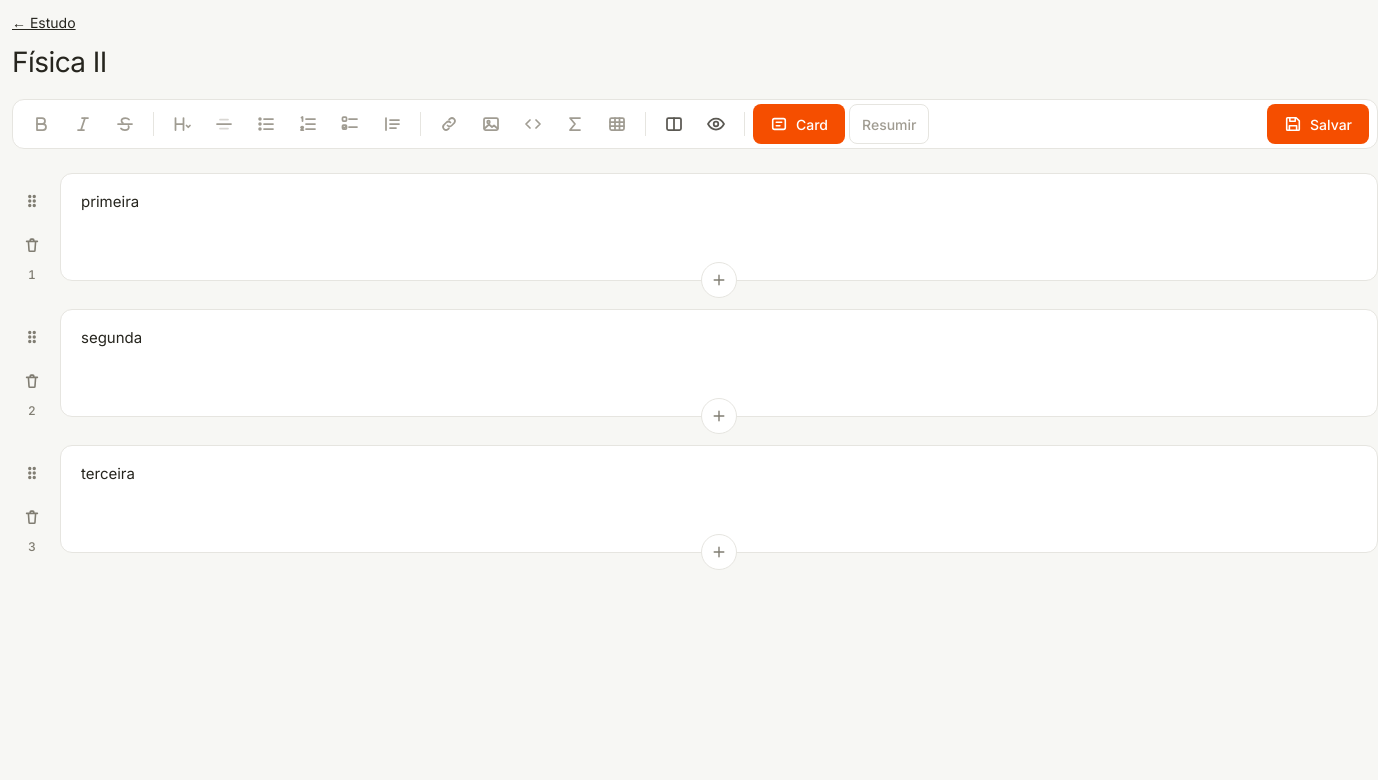
Test: EditorView — células › Excluir célula mostra o toast com Desfazer, e Desfazer devolve a célula na mesma posição
Click the button named "Excluir célula" below "segunda" at (32, 381), box 12,361 -> 52,401
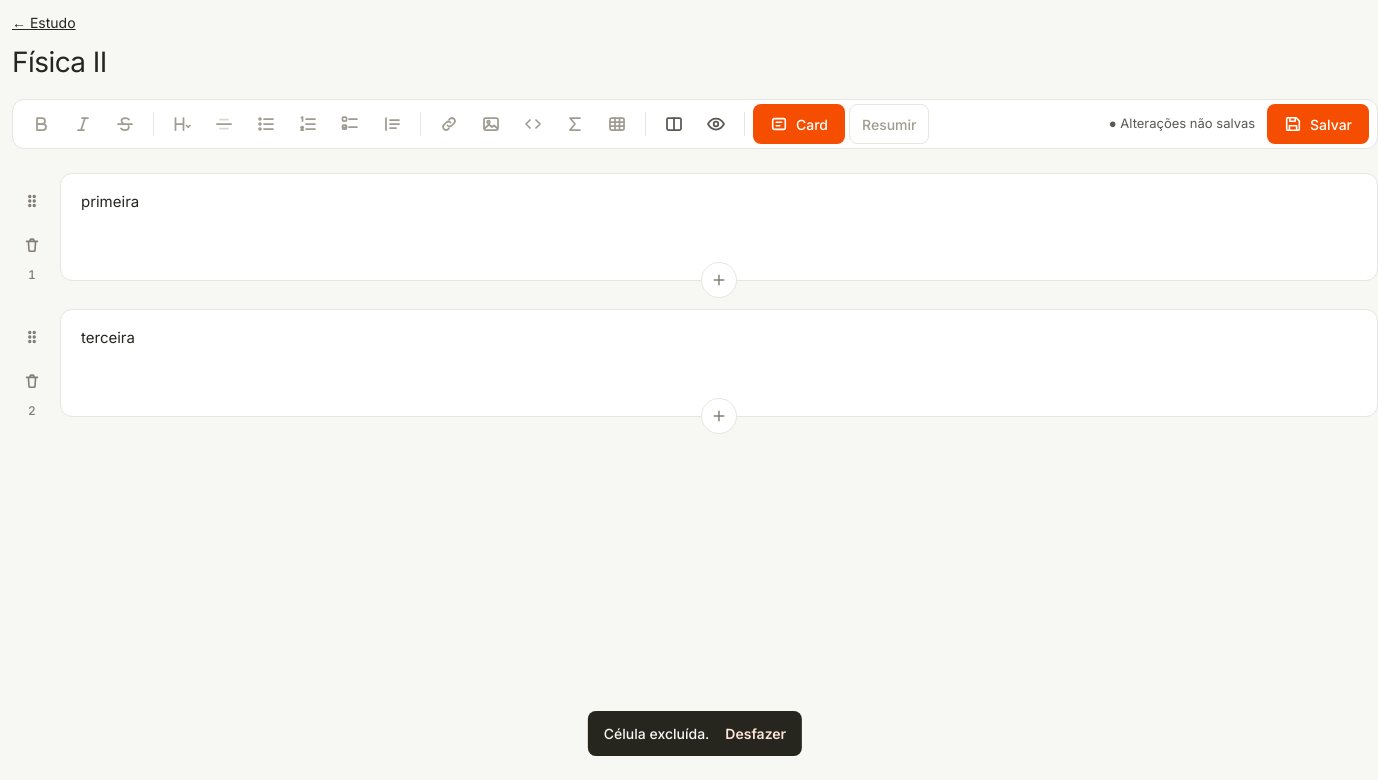
expect the number of elements "1 primeira" is 2: met, box 12,165 -> 1377,289; 12,301 -> 1377,425
expect the text "Célula excluída." is shown: met, box 604,723 -> 709,744
Click the button "Desfazer" at (756, 734), box 725,725 -> 786,742
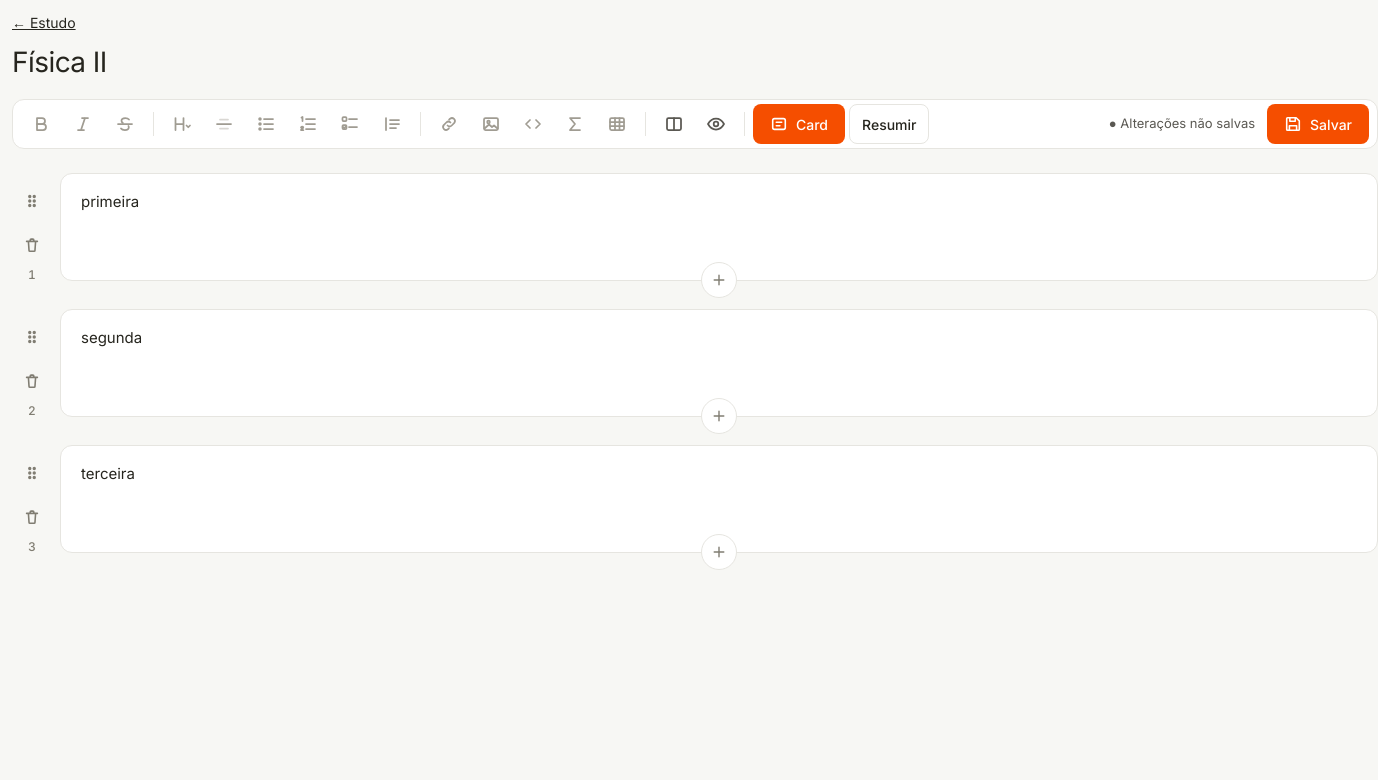
expect the number of elements "1 primeira" is 3: met, box 12,165 -> 1377,289; 12,301 -> 1377,425; 12,437 -> 1377,561
expect the button "Desfazer" is gone: met
